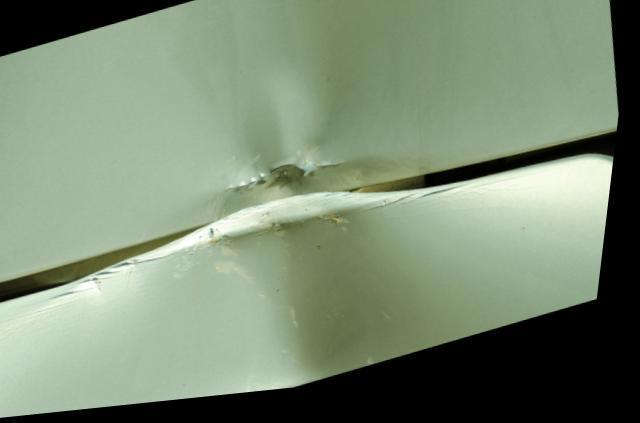dent: (203, 199, 418, 401), (216, 75, 394, 221)
